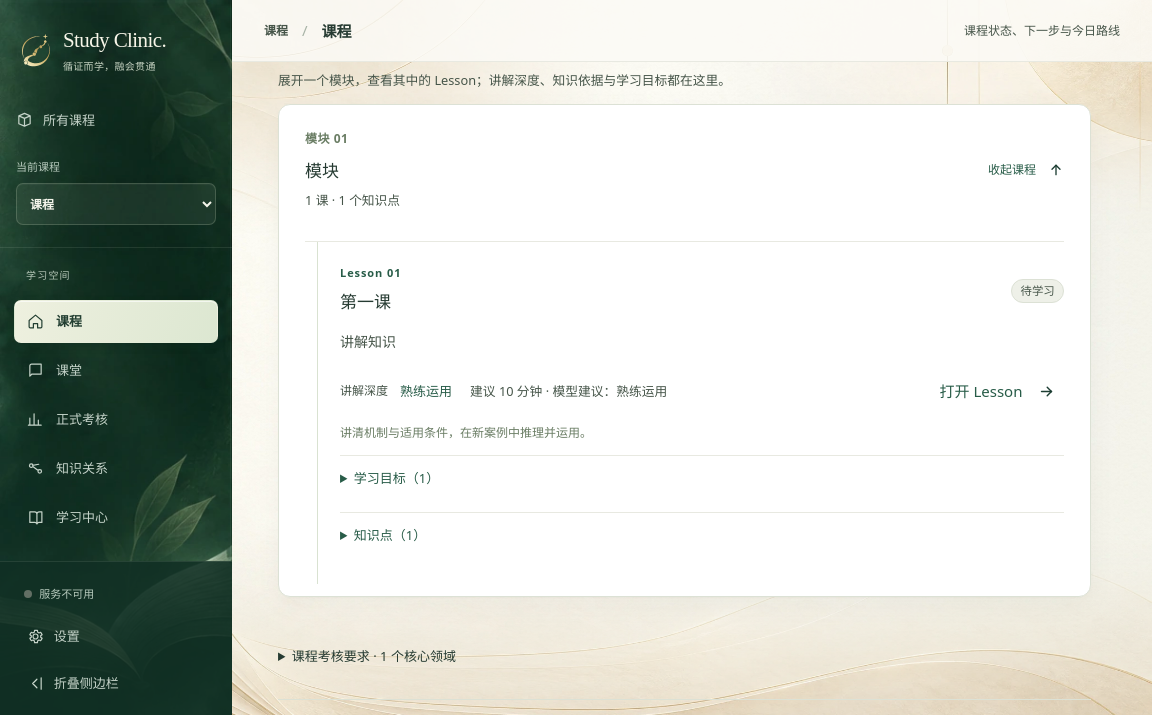
Test: 完整规划与独立学习界面 › 切换课程后忽略迟到的 Lesson 响应，不把旧课堂带入新课程
(page scrolled)
Expected: the heading "第一课" is shown, x1=340 y1=290 x2=391 y2=313
Click the button "打开 Lesson": (997, 391) x1=931 y1=371 x2=1064 y2=411
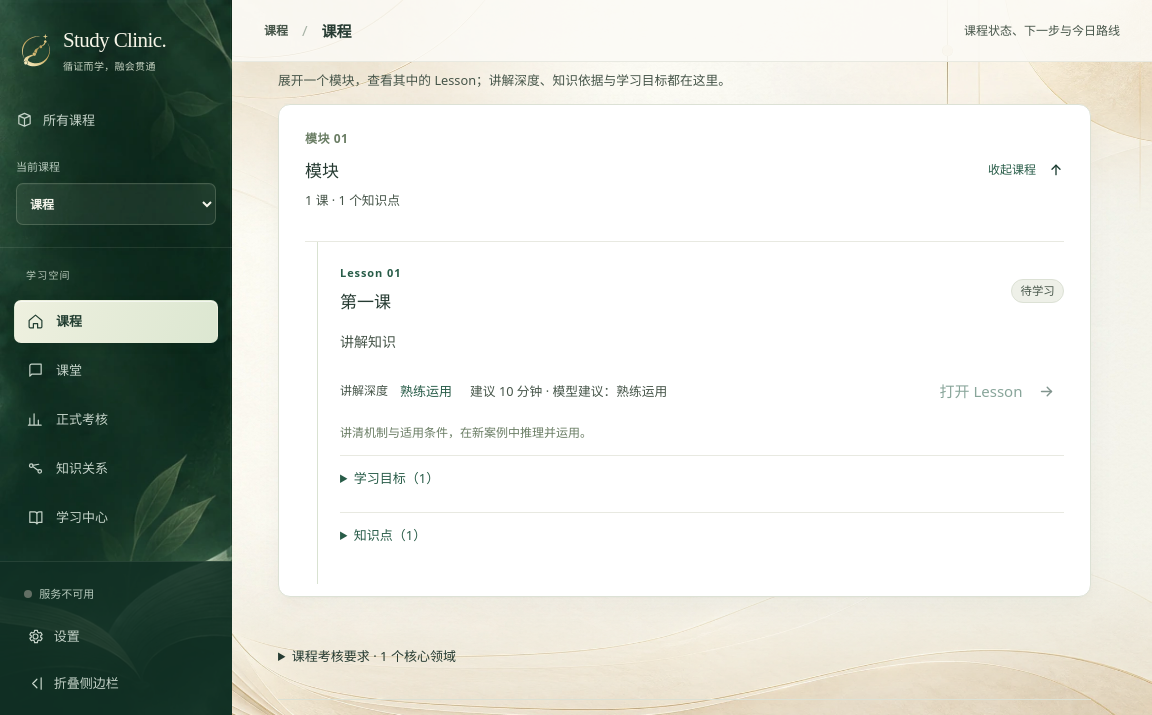
Select "另一门课程" in the dropdown named "选择课程": (116, 204) x1=16 y1=183 x2=216 y2=225
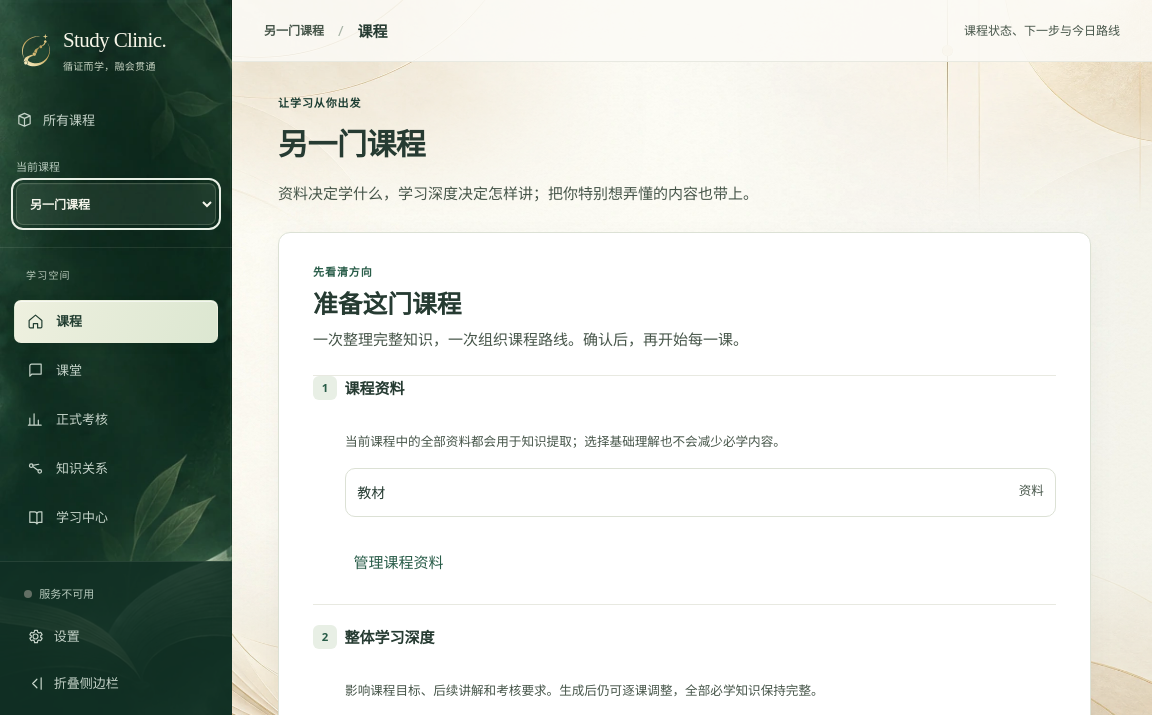
Expected: the heading "准备这门课程" is shown, x1=313 y1=287 x2=462 y2=320
